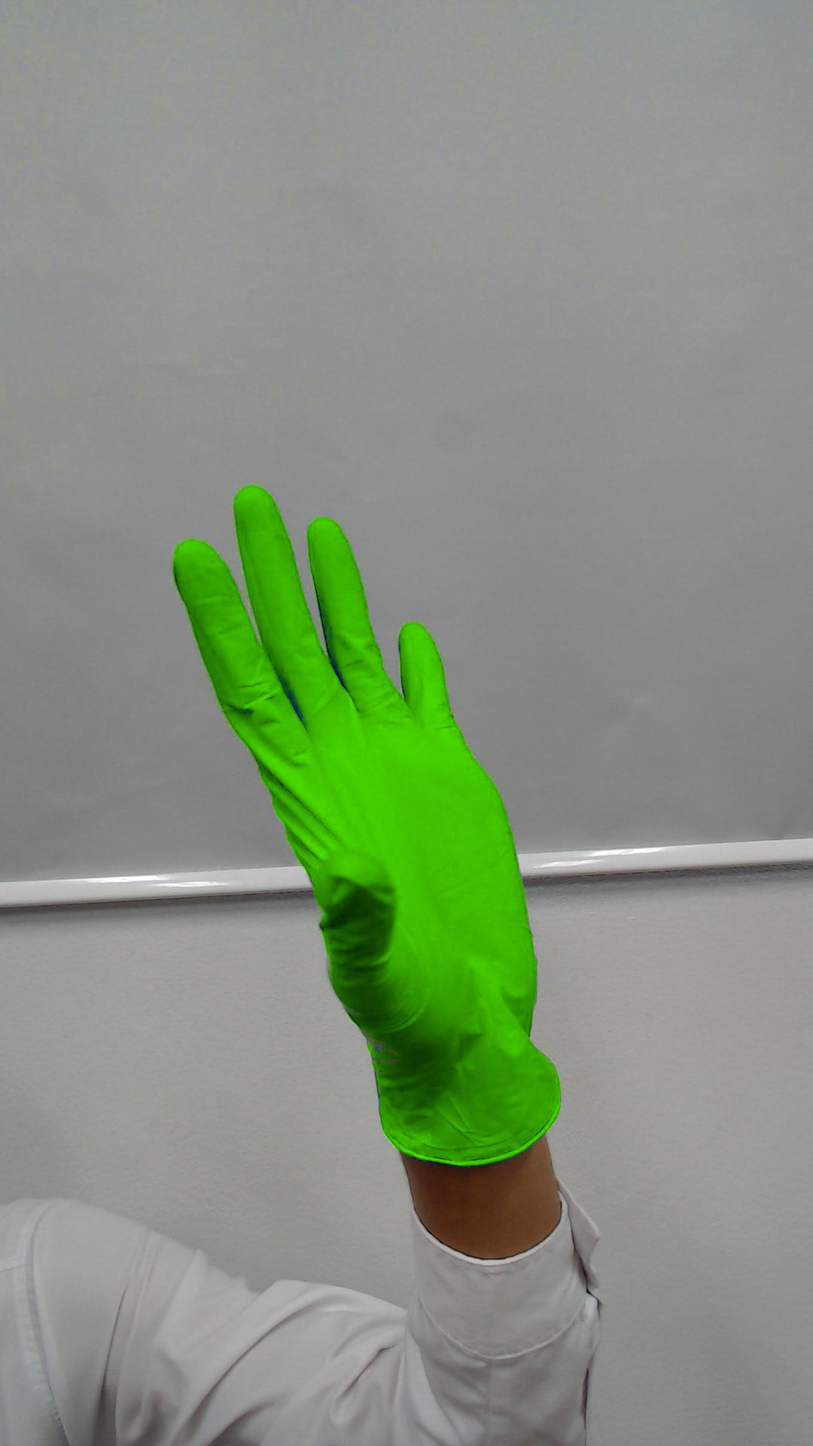gloves: (156, 474, 546, 1043)
